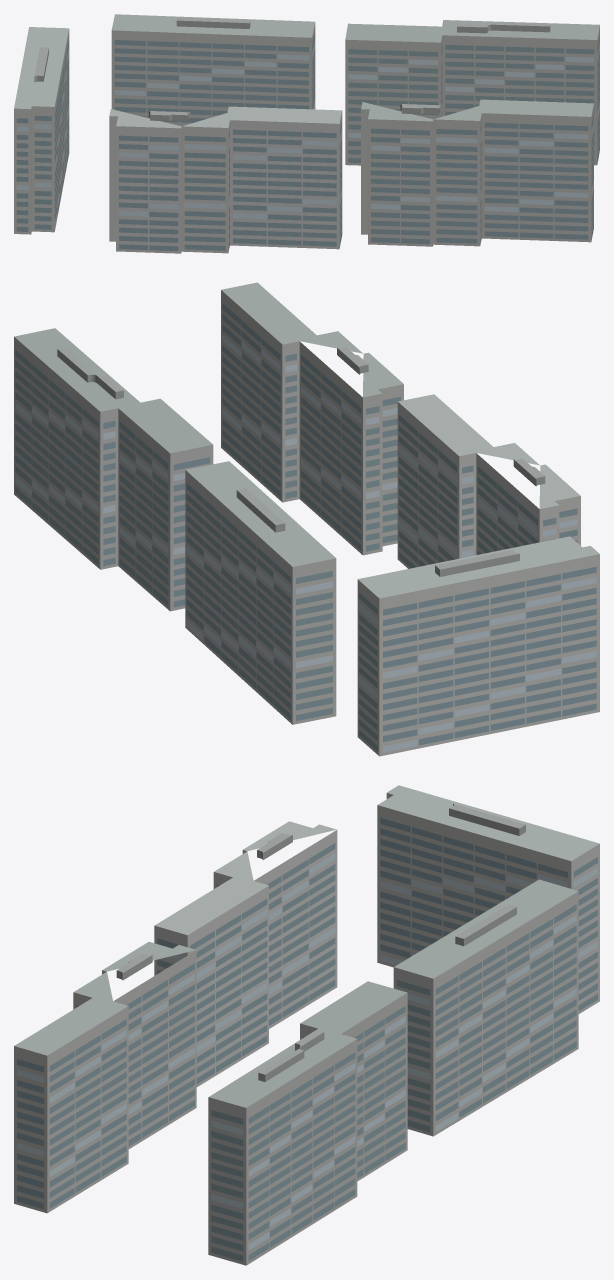
File: apt-a15781002.glb
3 views of the same model, one above another, from view 1: azimuth 30°, elevation 25°; view 2: azimuth 150°, elevation 25°; view 3: azimuth 270°, elevation 25° (orthographic). The views are drawn at different scales.
Parts seen in each view (by area): view 1: apt-a15781002; view 2: apt-a15781002; view 3: apt-a15781002.
Boxes of the visible parts, x1,y1,x2,y2 form: apt-a15781002: [14, 14, 599, 253]; apt-a15781002: [14, 282, 599, 756]; apt-a15781002: [14, 785, 599, 1265].
Size of the model in its own units: 172 by 41 by 132.
